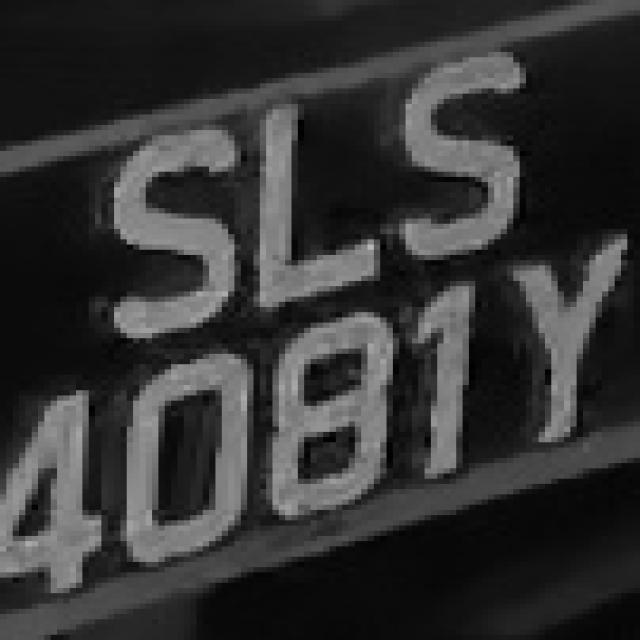0: (120, 354, 272, 588)
1: (393, 291, 500, 510)
4: (13, 354, 120, 624)
8: (266, 312, 406, 531)
L: (228, 78, 393, 297)
S: (386, 42, 564, 265), (82, 120, 241, 338)
Y: (5, 2, 6, 4)
